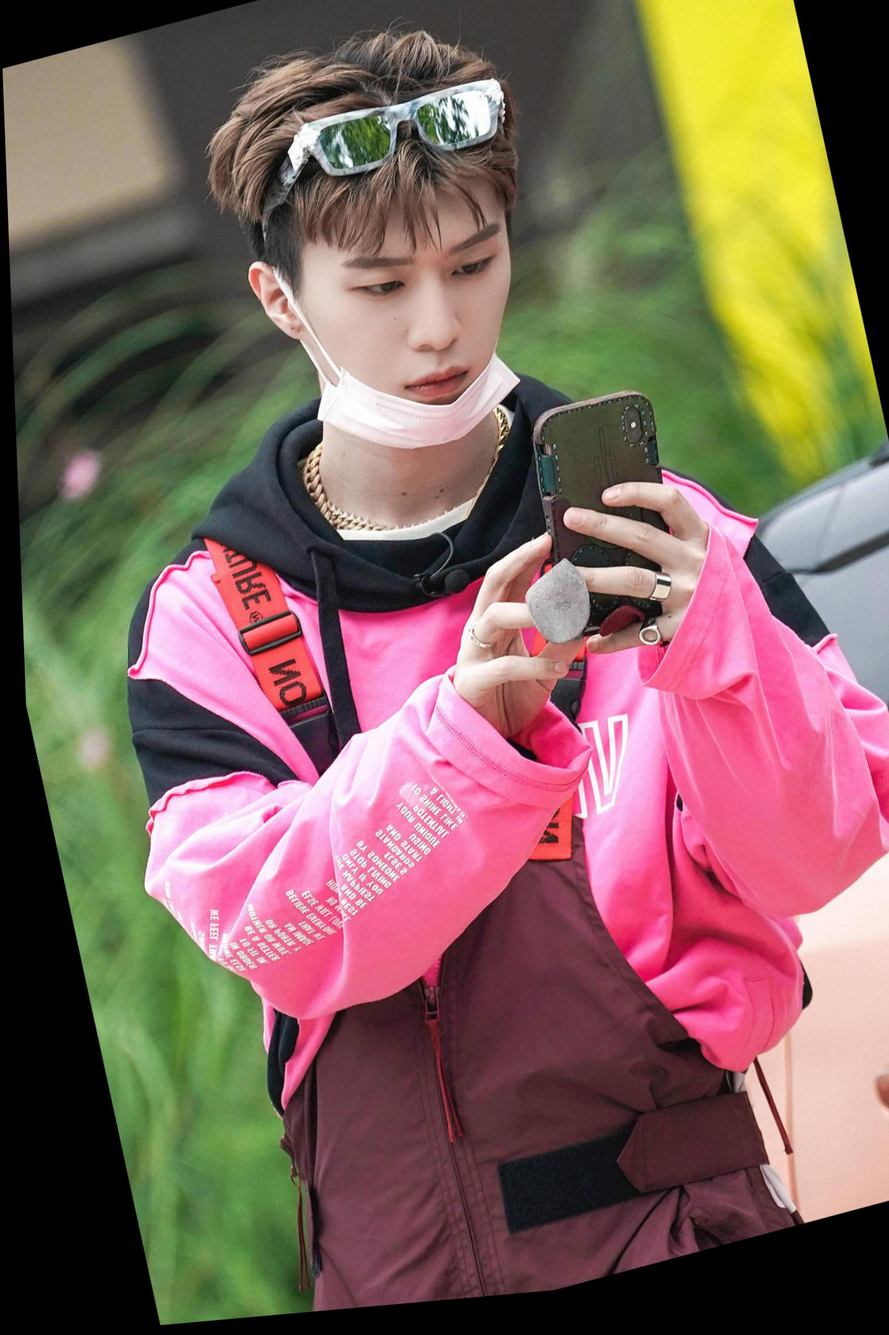WRONG: (298, 188, 546, 472)
